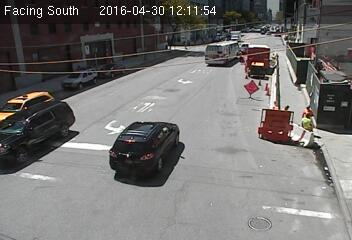neg: (179, 61, 199, 88), (117, 88, 134, 111), (150, 123, 167, 145), (151, 58, 161, 71)
pos: (297, 112, 315, 137), (302, 103, 314, 120)
